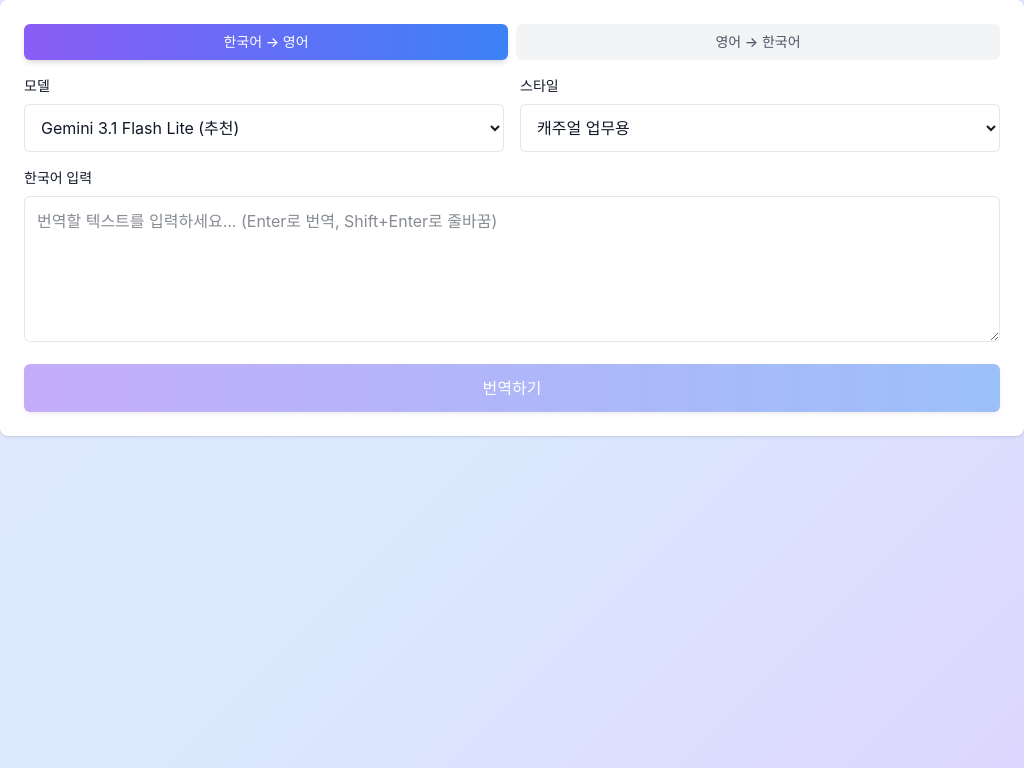
Test: HomePage direction toggle abort (F11) › aborts the in-flight translation when the direction is toggled (no stale-direction render)
Start a KO→EN streaming translation and let one delta render.
Type "첫번째" into the text box with placeholder "번역할 텍스트를 입력하세요... (Enter로 번역, Shift+Enter로 줄바꿈)" at (512, 269), box [24,196,1000,342]
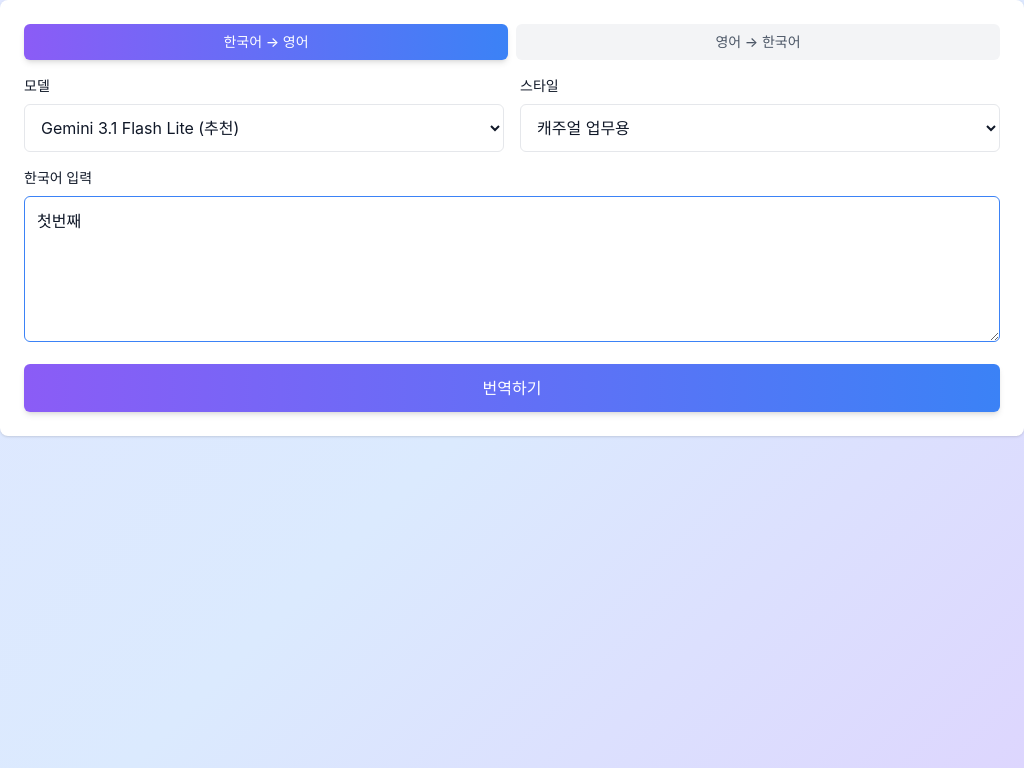
Press Enter
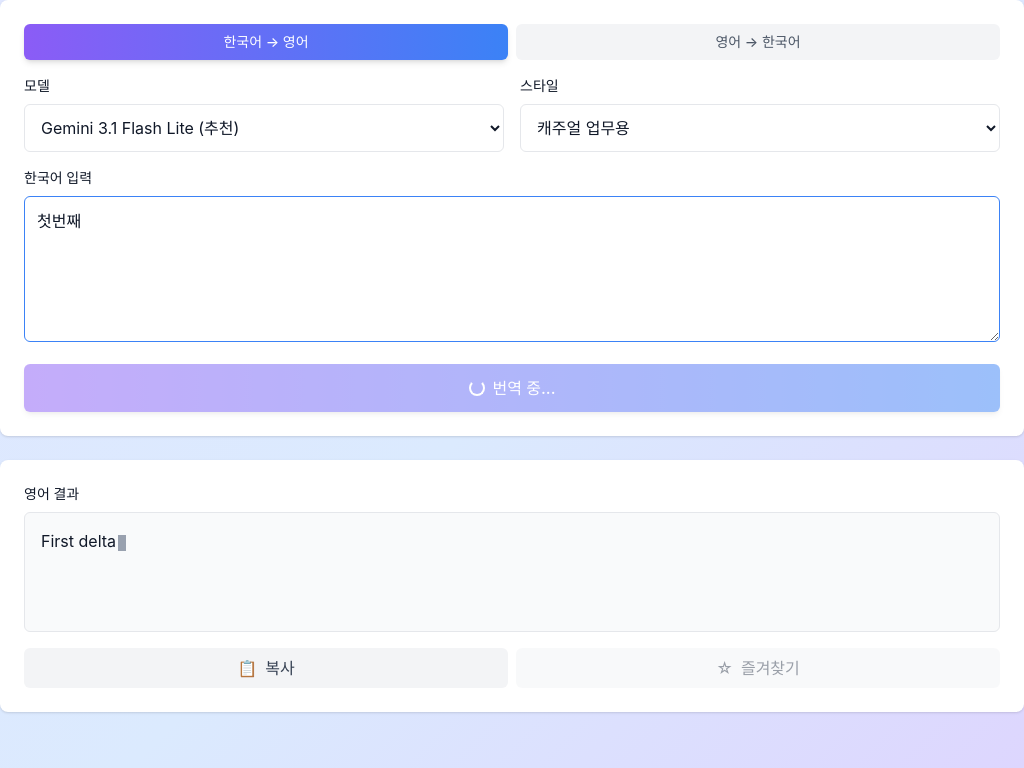
Check: the text "First delta" is shown, box [24,512,1000,632]
Check: the text "영어 결과" is shown, box [24,485,79,502]
Toggle to reading mode mid-stream — must abort the live translation.
Click the button "영어 → 한국어" at (758, 42), box [516,24,1000,60]
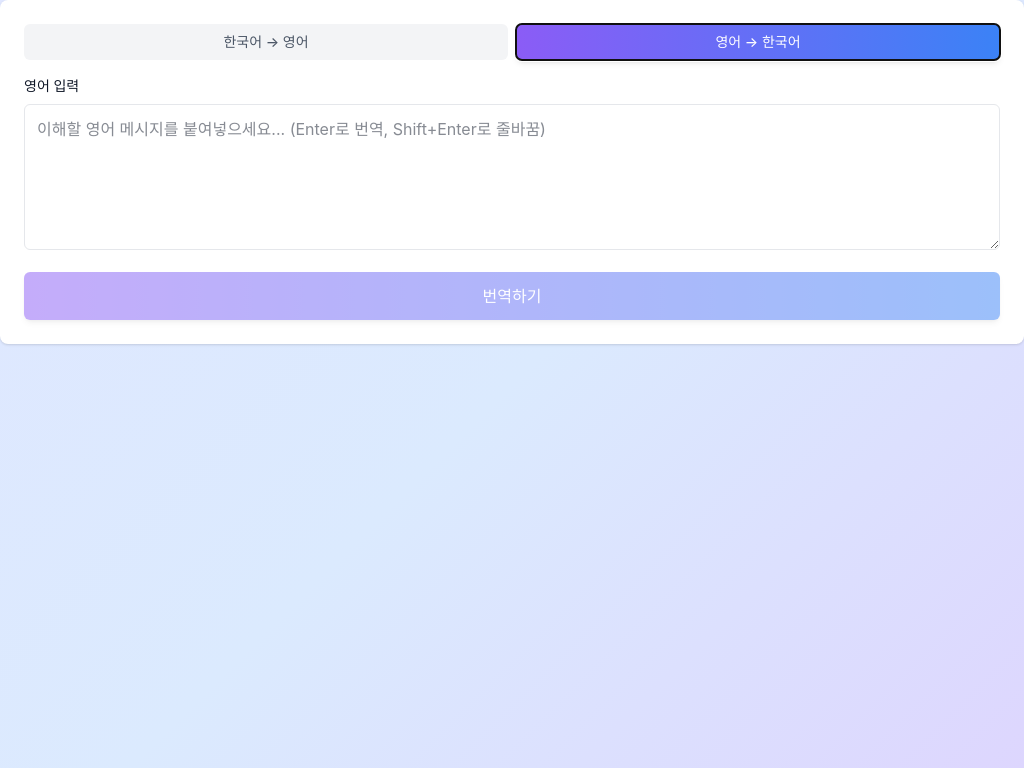
Check: the text "영어 결과" is gone
